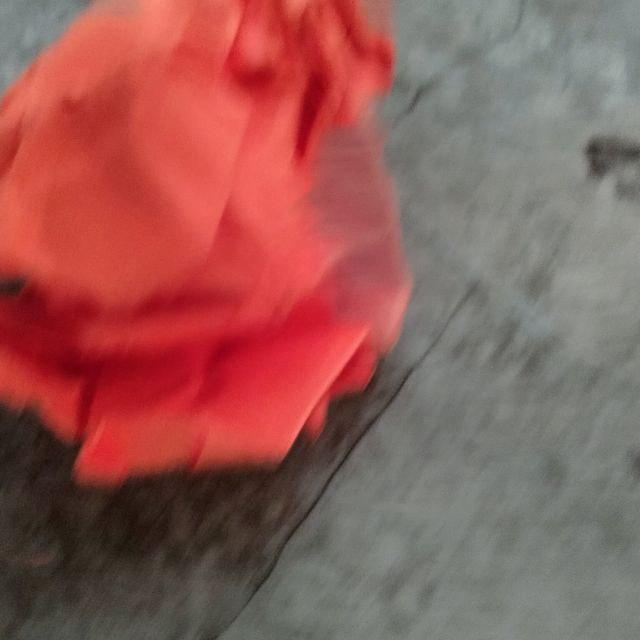paper: (0, 0, 464, 595)
